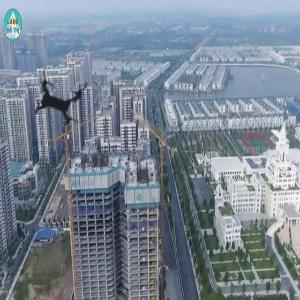drone: (5, 46, 113, 154)
